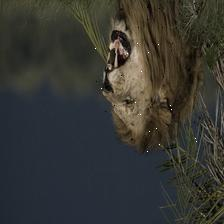Lion: (93, 0, 200, 159)
